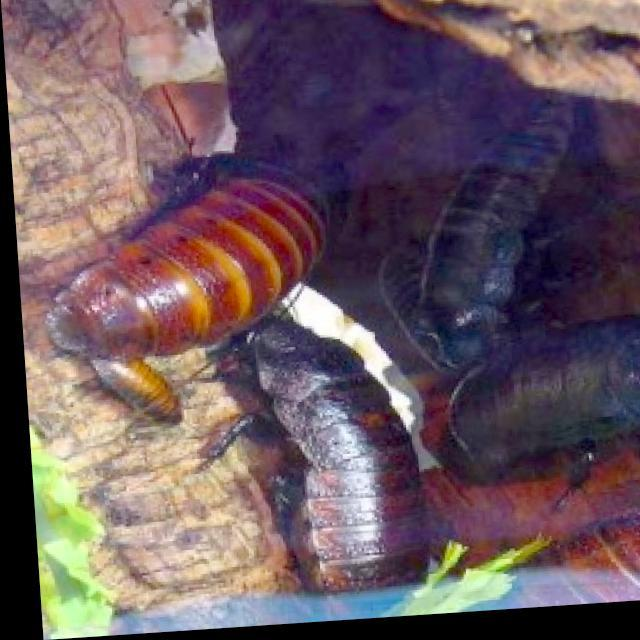cockroach: (40, 105, 361, 443)
